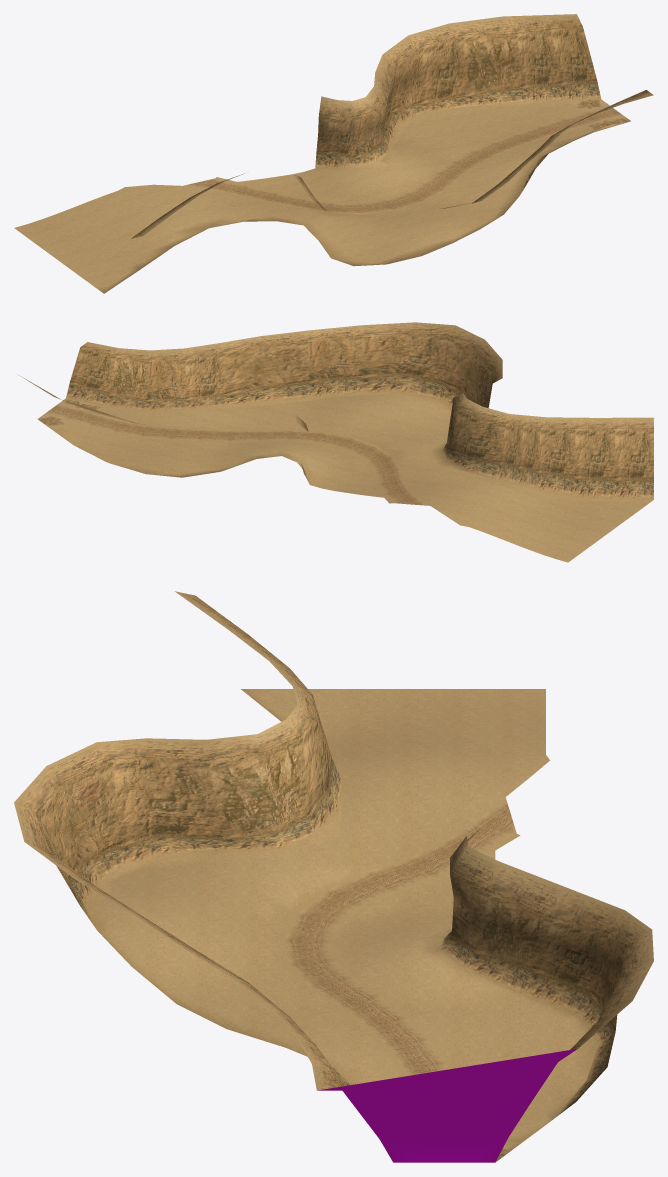
File: Mission5a_End_Zone.glb
3 renders of one model, top to bottom at view 1: azimuth 30°, elevation 25°; view 2: azimuth 150°, elevation 25°; view 3: azimuth 270°, elevation 25°, orthographic. The views are drawn at different scales.
Visible parts, largest first — view 1: MISSION5A_END_ZONE166, MISSION5A_END_ZONE165, MISSION5A_END_ZONE171, MISSION5A_END_ZONE170, MISSION5A_END_ZONE172, MISSION5A_END_ZONE169, MISSION5A_END_ZONE121, MISSION5A_END_ZONE122, MISSION5A_END_ZONE168, MISSION5A_END_ZONE143, MISSION5A_END_ZONE123, MISSION5A_END_ZONE159 (+52 smaller); view 2: MISSION5A_END_ZONE008, MISSION5A_END_ZONE029, MISSION5A_END_ZONE043, MISSION5A_END_ZONE031, MISSION5A_END_ZONE062, MISSION5A_END_ZONE049, MISSION5A_END_ZONE047, MISSION5A_END_ZONE048, MISSION5A_END_ZONE032, MISSION5A_END_ZONE018, MISSION5A_END_ZONE017, MISSION5A_END_ZONE087 (+82 smaller); view 3: MISSION5A_END_ZONE152, MISSION5A_END_ZONE144, MISSION5A_END_ZONE021, MISSION5A_END_ZONE034, MISSION5A_END_ZONE159, MISSION5A_END_ZONE052, MISSION5A_END_ZONE004, MISSION5A_END_ZONE109, MISSION5A_END_ZONE011, MISSION5A_END_ZONE123, MISSION5A_END_ZONE168, MISSION5A_END_ZONE131 (+95 smaller).
Boxes of the visible parts, <box> form: MISSION5A_END_ZONE166: <box>517,26,601,99</box>; MISSION5A_END_ZONE165: <box>516,34,596,108</box>; MISSION5A_END_ZONE171: <box>449,23,527,109</box>; MISSION5A_END_ZONE170: <box>420,35,474,112</box>; MISSION5A_END_ZONE172: <box>463,34,528,101</box>; MISSION5A_END_ZONE169: <box>395,47,469,120</box>; MISSION5A_END_ZONE121: <box>323,100,363,183</box>; MISSION5A_END_ZONE122: <box>352,97,389,173</box>; MISSION5A_END_ZONE168: <box>383,47,426,124</box>; MISSION5A_END_ZONE143: <box>315,96,338,172</box>; MISSION5A_END_ZONE123: <box>366,97,415,165</box>; MISSION5A_END_ZONE159: <box>375,65,411,141</box>; MISSION5A_END_ZONE008: <box>357,334,412,394</box>; MISSION5A_END_ZONE029: <box>261,336,309,403</box>; MISSION5A_END_ZONE043: <box>223,345,266,407</box>; MISSION5A_END_ZONE031: <box>592,429,653,504</box>; MISSION5A_END_ZONE062: <box>184,352,225,410</box>; MISSION5A_END_ZONE049: <box>499,414,546,471</box>; MISSION5A_END_ZONE047: <box>538,428,594,503</box>; MISSION5A_END_ZONE048: <box>537,417,594,498</box>; MISSION5A_END_ZONE032: <box>591,418,653,479</box>; MISSION5A_END_ZONE018: <box>306,330,359,397</box>; MISSION5A_END_ZONE017: <box>307,335,360,400</box>; MISSION5A_END_ZONE087: <box>70,342,118,393</box>; MISSION5A_END_ZONE152: <box>320,1049,577,1162</box>; MISSION5A_END_ZONE144: <box>450,847,551,995</box>; MISSION5A_END_ZONE021: <box>146,738,223,854</box>; MISSION5A_END_ZONE034: <box>205,734,279,848</box>; MISSION5A_END_ZONE159: <box>490,886,607,1016</box>; MISSION5A_END_ZONE052: <box>258,719,328,848</box>; MISSION5A_END_ZONE004: <box>46,742,123,885</box>; MISSION5A_END_ZONE109: <box>318,1062,551,1162</box>; MISSION5A_END_ZONE011: <box>97,738,163,854</box>; MISSION5A_END_ZONE123: <box>418,847,488,984</box>; MISSION5A_END_ZONE168: <box>553,910,625,1043</box>; MISSION5A_END_ZONE131: <box>380,1137,507,1162</box>.
Size of the model in its own units: 176 by 22.04 by 100.
11 materials, 10 textured.
